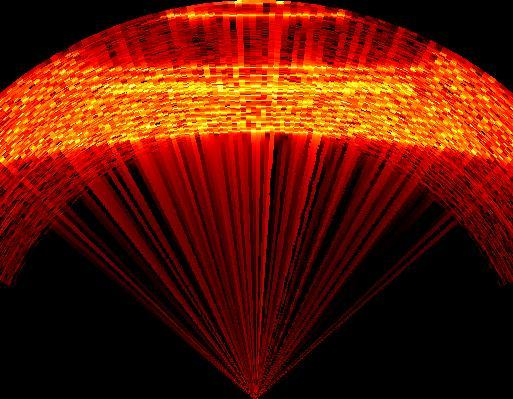pipe: (67, 11, 459, 96)
